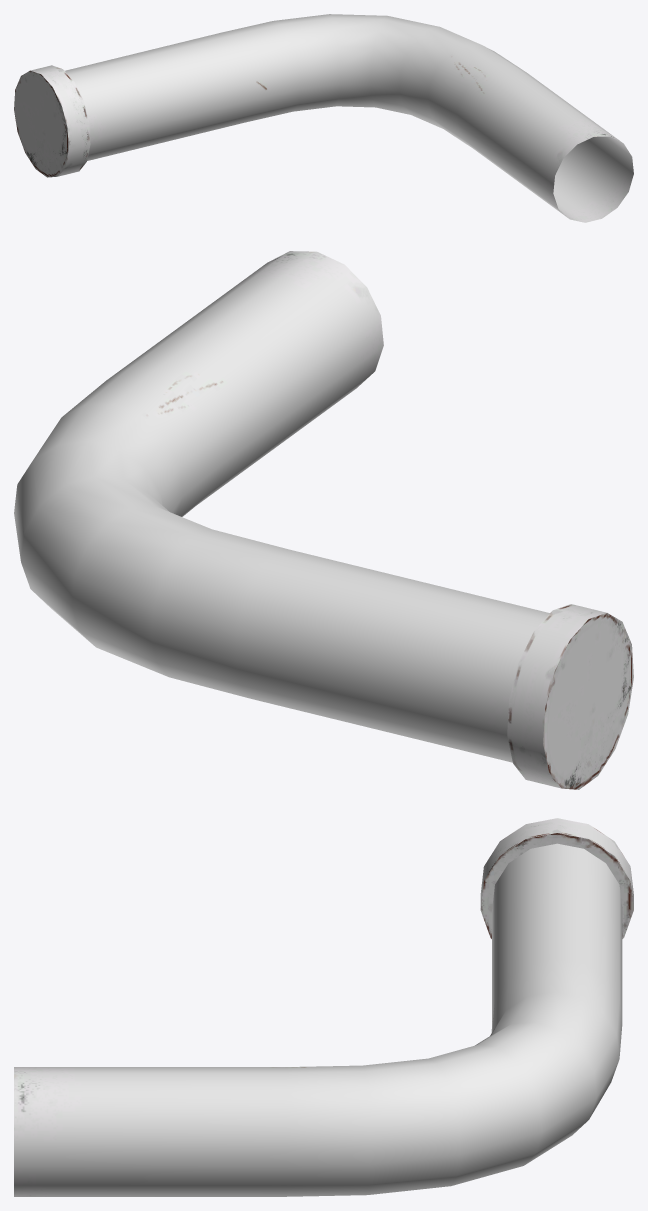
Rendered from WhitePipe_Turn.dae.
The picture shows the model from 3 angles, top to bottom: view 1: azimuth 30°, elevation 25°; view 2: azimuth 150°, elevation 25°; view 3: azimuth 270°, elevation 25°; orthographic projection. The views are drawn at different scales.
Visible parts, largest first — view 1: polySurface405; view 2: polySurface405; view 3: polySurface405.
Boxes of the visible parts, left/top/right/bottom form: polySurface405: left=14, top=14, right=633, bottom=222; polySurface405: left=14, top=251, right=633, bottom=789; polySurface405: left=14, top=818, right=633, bottom=1196.
Size of the model in its own units: 1.78 by 0.4216 by 1.71.
Materials: 1 (1 with a texture image).
